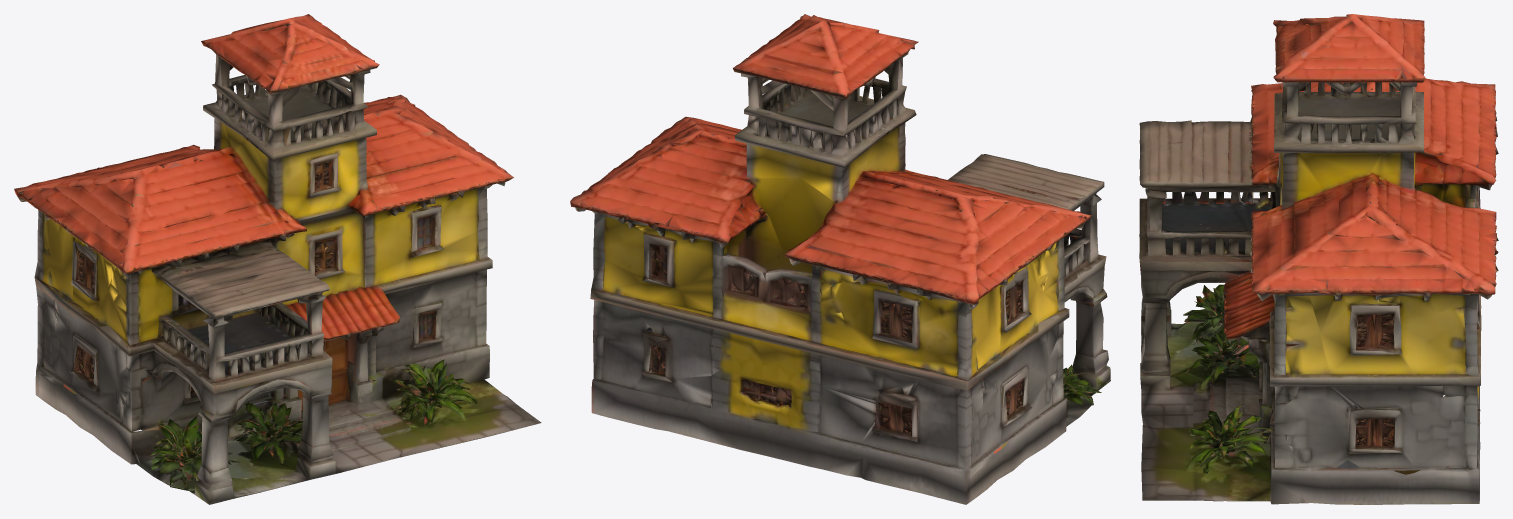
Rendered from Mediterranean_Villa.glb.
The picture shows the model from 3 angles, left to right: view 1: azimuth 30°, elevation 25°; view 2: azimuth 150°, elevation 25°; view 3: azimuth 270°, elevation 25°; orthographic projection. The views are drawn at different scales.
Parts seen in each view (by area): view 1: Mediterranean_Villa; view 2: Mediterranean_Villa; view 3: Mediterranean_Villa.
Part boxes in pixels (x1,y1,x2,y2): Mediterranean_Villa: (14, 14, 541, 504); Mediterranean_Villa: (570, 14, 1110, 504); Mediterranean_Villa: (1139, 14, 1498, 504).
Bounding box in the file's own units: 1.9 × 1.74 × 1.4.
Materials: 1 (1 with a texture image).
